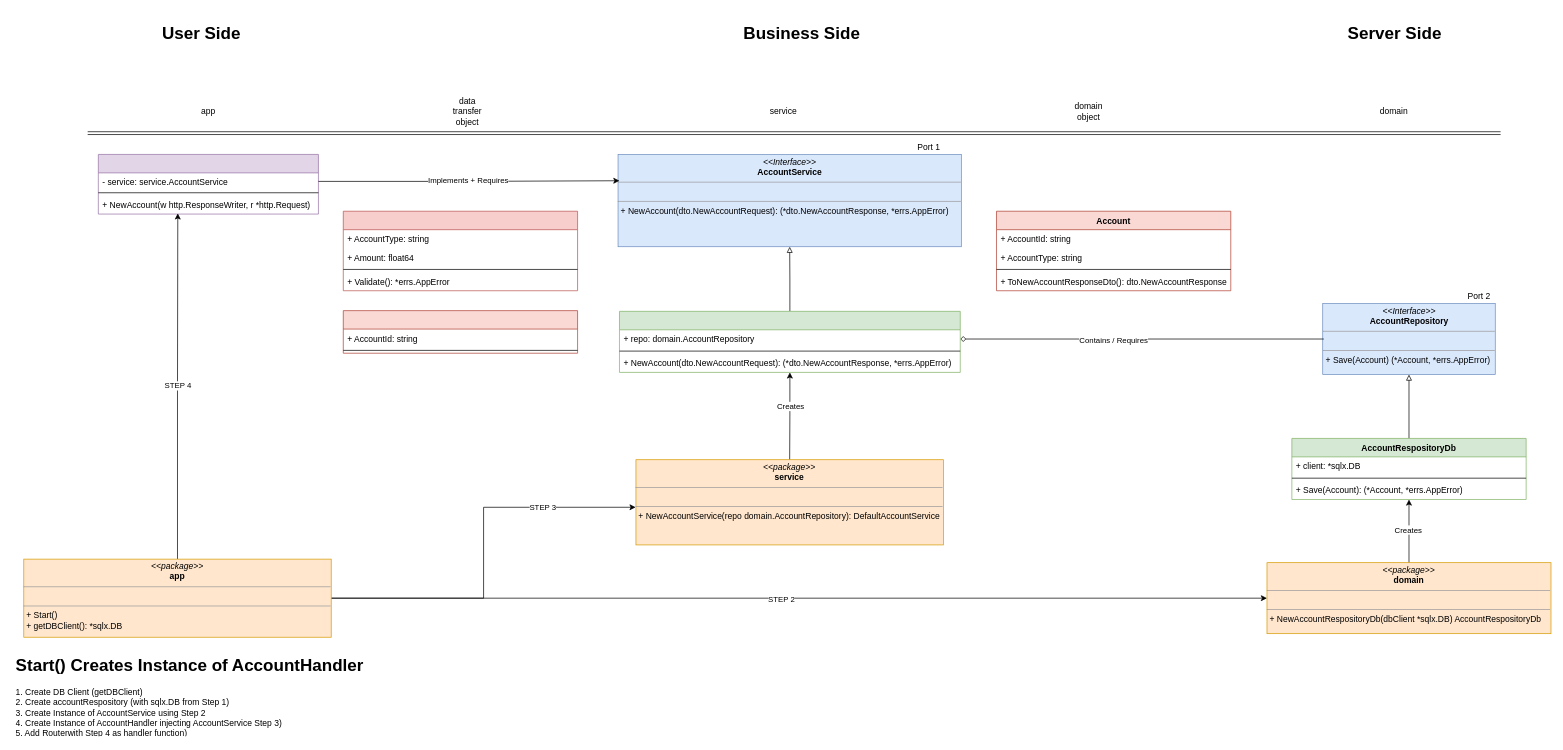
The diagram is 1563 pixels wide and 750 high, and some of its shapes have lost their labels. Here are the shapes that lost their labels. From the top down, the box of each, then its label:
(98, 154, 318, 214): AccountHandler
(343, 211, 578, 291): NewAccountRequest
(343, 310, 578, 353): NewAccountResponse
(619, 311, 960, 372): DefaultAccountService
